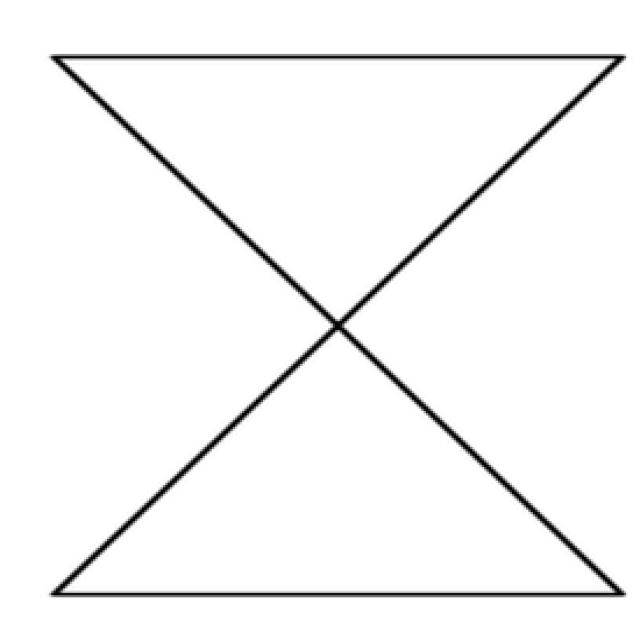Gate valve: (48, 53, 619, 327), (55, 327, 620, 594)
